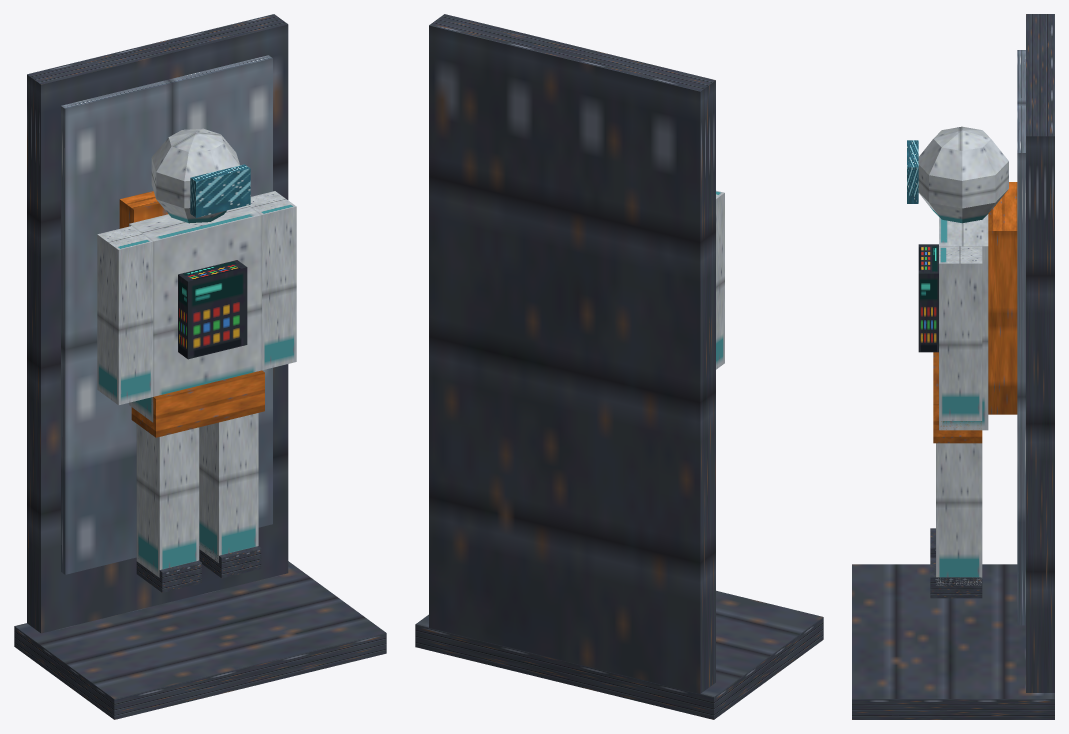
The model's file is space_suit_rack.obj.
3 views of the same model, side by side, from view 1: azimuth 30°, elevation 25°; view 2: azimuth 150°, elevation 25°; view 3: azimuth 270°, elevation 25° (orthographic). The views are drawn at different scales.
Parts seen in each view (by area): view 1: space_suit_rack; view 2: space_suit_rack; view 3: space_suit_rack.
Boxes of the visible parts, x1=… form: space_suit_rack: x1=14, y1=14, x2=386, y2=719; space_suit_rack: x1=415, y1=14, x2=823, y2=719; space_suit_rack: x1=852, y1=14, x2=1054, y2=719.
Size of the model in its own units: 1.1 by 2.2 by 0.7.
1 material, 1 textured.
